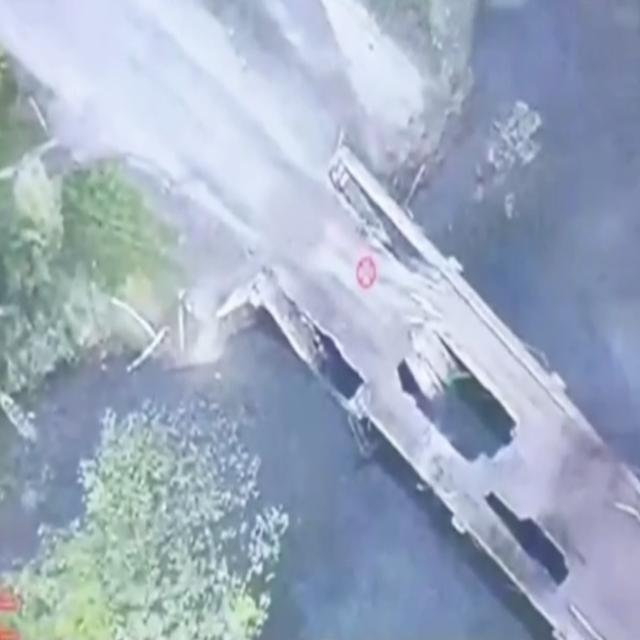fortification: (246, 136, 640, 640)
